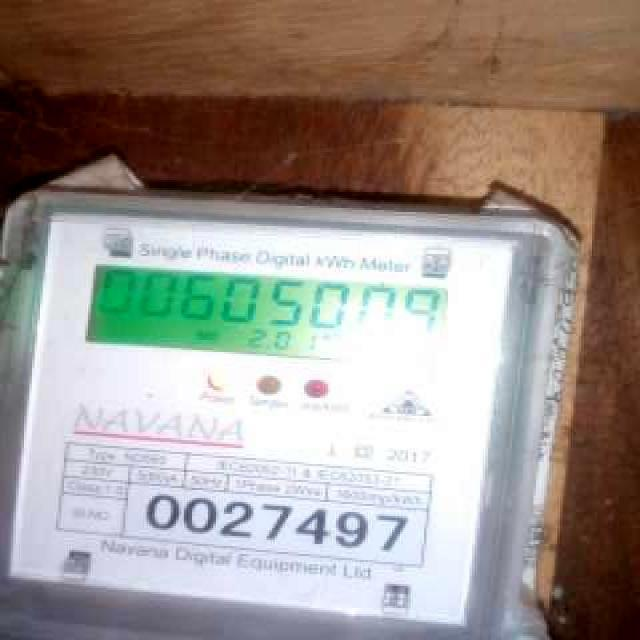LCD: (77, 260, 455, 382)
